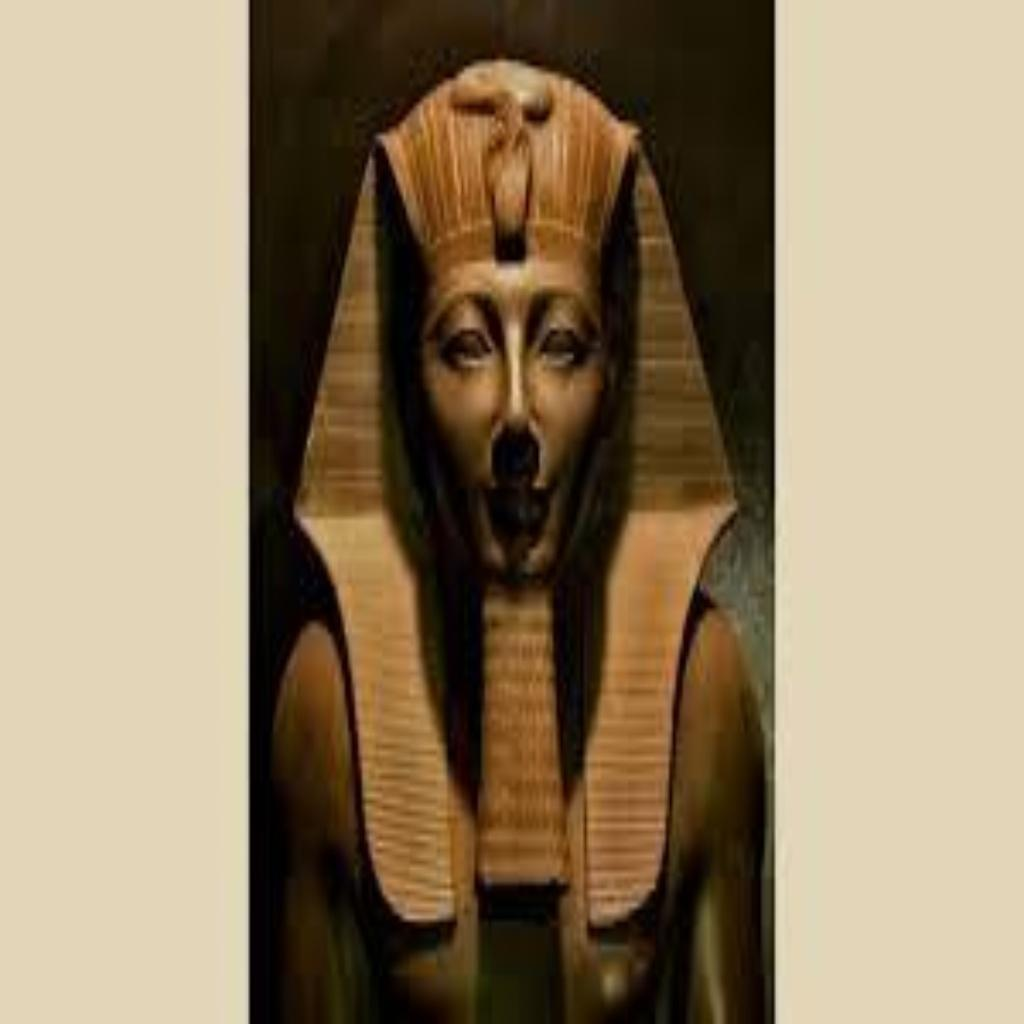King Thutmose III: (263, 49, 768, 1018)
